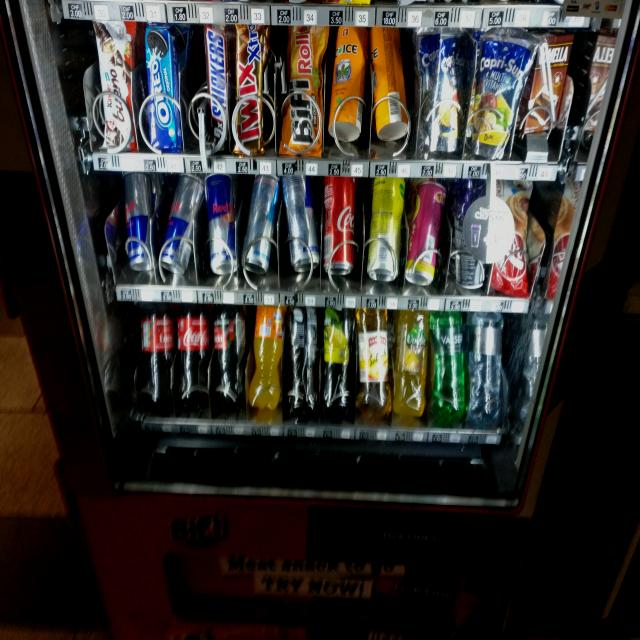7days_croissantschoko_packung_80_1_0000000000003: (489, 176, 533, 288)
bifi_roll__50__4251097402635: (281, 25, 326, 163)
bueno___43__4008400320328: (92, 23, 138, 154)
c-swiss_dosenabisicetea__33__9120025930135: (370, 28, 412, 144), (330, 23, 364, 142)
caferoyal_classicmacchiato__33__7617014164487: (452, 179, 488, 289)
caprisun_multivitamin__20__4000177605004: (473, 31, 521, 154), (421, 28, 465, 154)
coke__dose_33__54491472: (323, 173, 359, 278)
coke__flasche_50__54491472: (137, 297, 176, 406), (174, 302, 212, 413), (212, 301, 250, 409)
comella_schokodrink__33__7613100037253: (528, 27, 572, 132)
fanta___50__40822938: (250, 300, 283, 407)
fuse_lemon__50__5449000235947: (320, 304, 355, 420)
fuse_lemon_dose_33__5449000235947: (368, 173, 408, 285)
fuse_peach__50__5449000236623: (282, 306, 320, 418)
oreo___66__84100733: (140, 18, 185, 148)
ramseier_schorle__50__7610057012456: (356, 306, 392, 418)
redbull___33__90162909: (155, 173, 200, 275), (279, 170, 321, 270), (200, 175, 240, 275), (116, 168, 155, 270), (241, 174, 279, 274)
snickers___50__5000159461122: (200, 21, 233, 149)
tiki_himbeer_brause__50__00000000009342: (408, 178, 444, 284)
twix___50__5000159459228: (232, 22, 268, 158)
valser_classic__50__76404160: (426, 309, 467, 426)
valser_still__50__7610335002575: (466, 308, 502, 423)
volvic_pinapple__50__305764335648: (392, 307, 428, 414)
